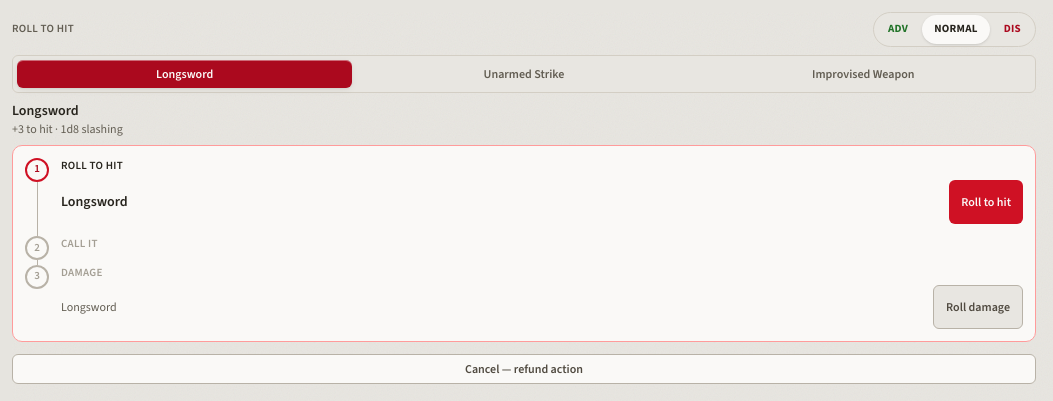
it: InlineAttackPicker — attack form selector (#786) › shows the armed form's stats preview and updates it on selection
Click the radio button labelled "Improvised Weapon" at (863,74), box [696, 60, 1031, 88]
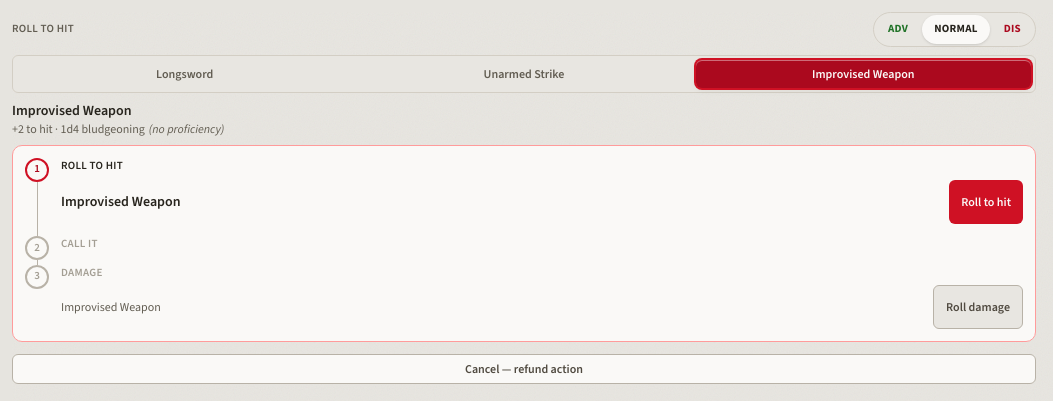
Now the text "+2 to hit · 1d4 bludgeoning(no proficiency)" is shown, box [12, 120, 224, 136]
Now the text "(no proficiency)" is shown, box [149, 120, 224, 136]
